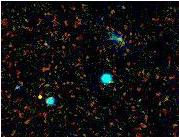star: (22, 80, 52, 110)
